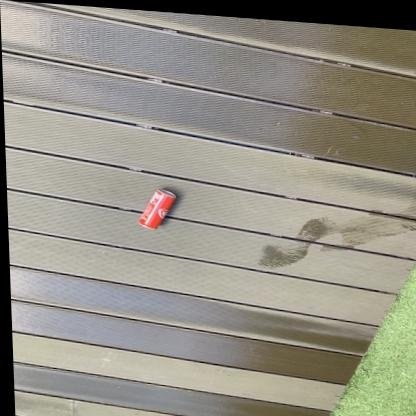trash: (138, 189, 175, 229)
